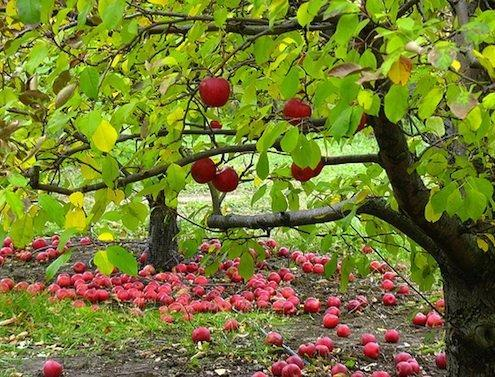apple: (190, 159, 233, 190), (198, 76, 230, 106), (213, 166, 240, 193), (282, 97, 312, 121), (191, 158, 216, 183), (292, 156, 314, 180), (42, 359, 63, 376)
